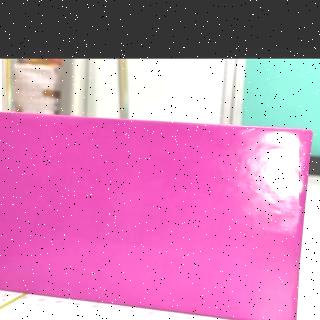xparking: (0, 111, 313, 319)
